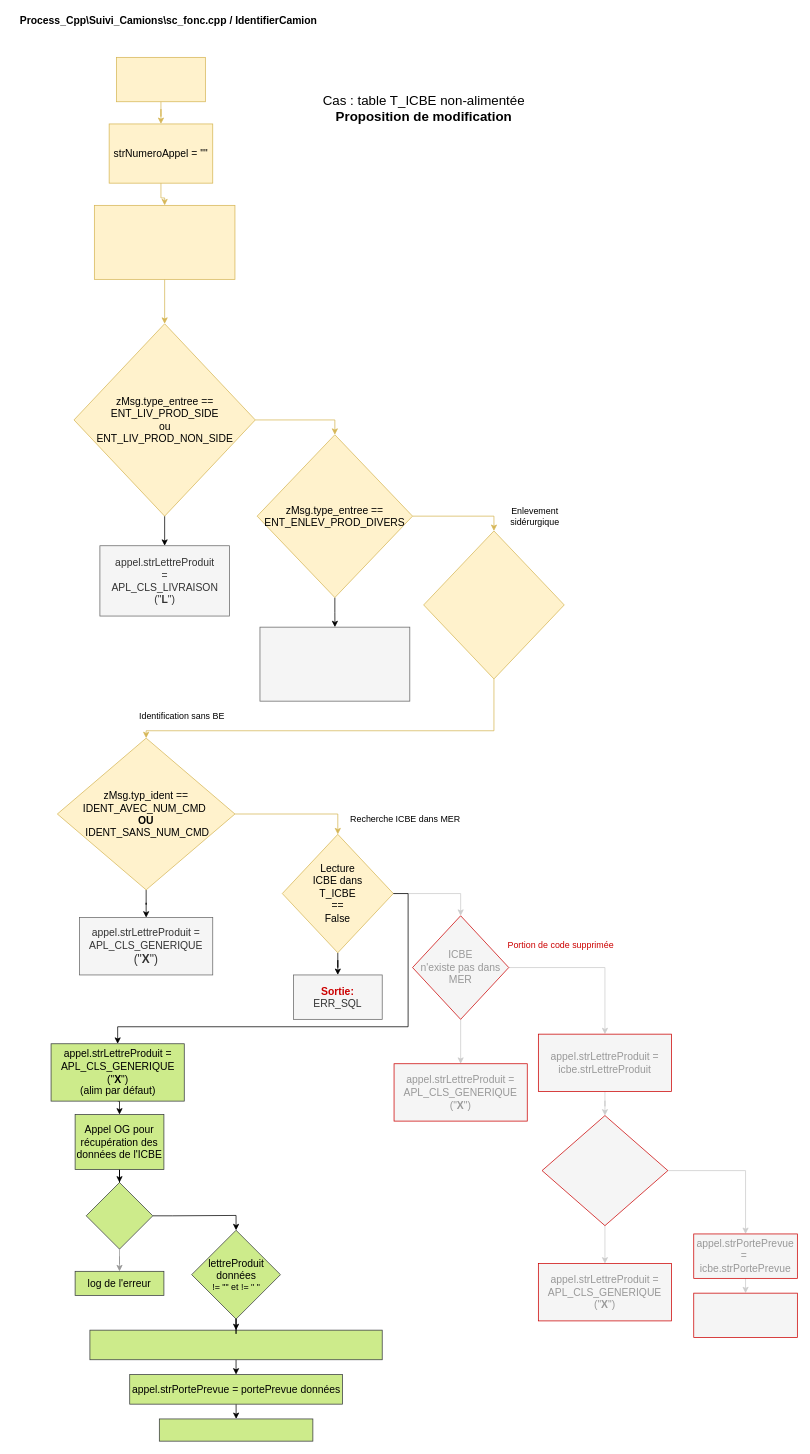
The diagram is 810 pixels wide and 1454 high, and some of its shapes have lost their labels. The shapes that lost their labels are listed below. From the top down, each one's centre as x and y in pixels, then its label:
(x=160, y=79): Début zMsg + strNumeroAppel
(x=164, y=242): strPriorite = APL_PRIORITE_NORMAL ("N")
(x=493, y=604): zMsg.type_entree == ENT_ENLEV_PROD_SIDE
(x=334, y=663): appel.strLettreProduit = APL_CLS_ENLEV_DIVERS (" D ")
(x=604, y=1170): icbe.strLettreProduit == "" OU " "
(x=119, y=1215): Appel en erreur
(x=745, y=1315): strPriorite = icbe.strPriorite
(x=235, y=1344): appel.strLettreProduit = lettreProduit des données renvoyées
(x=236, y=1429): strPriorite = priorite données
